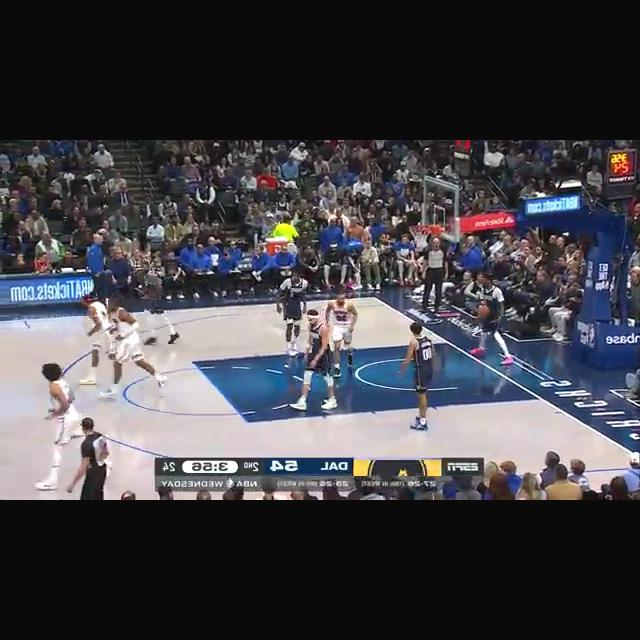Ball: (474, 302, 491, 324)
Team-1-Player: (288, 310, 340, 412), (470, 271, 518, 371), (399, 320, 439, 434), (135, 260, 181, 350), (270, 268, 310, 354)
Team-2-Player: (28, 360, 102, 492), (100, 300, 177, 394), (74, 291, 120, 367), (326, 288, 362, 370)
